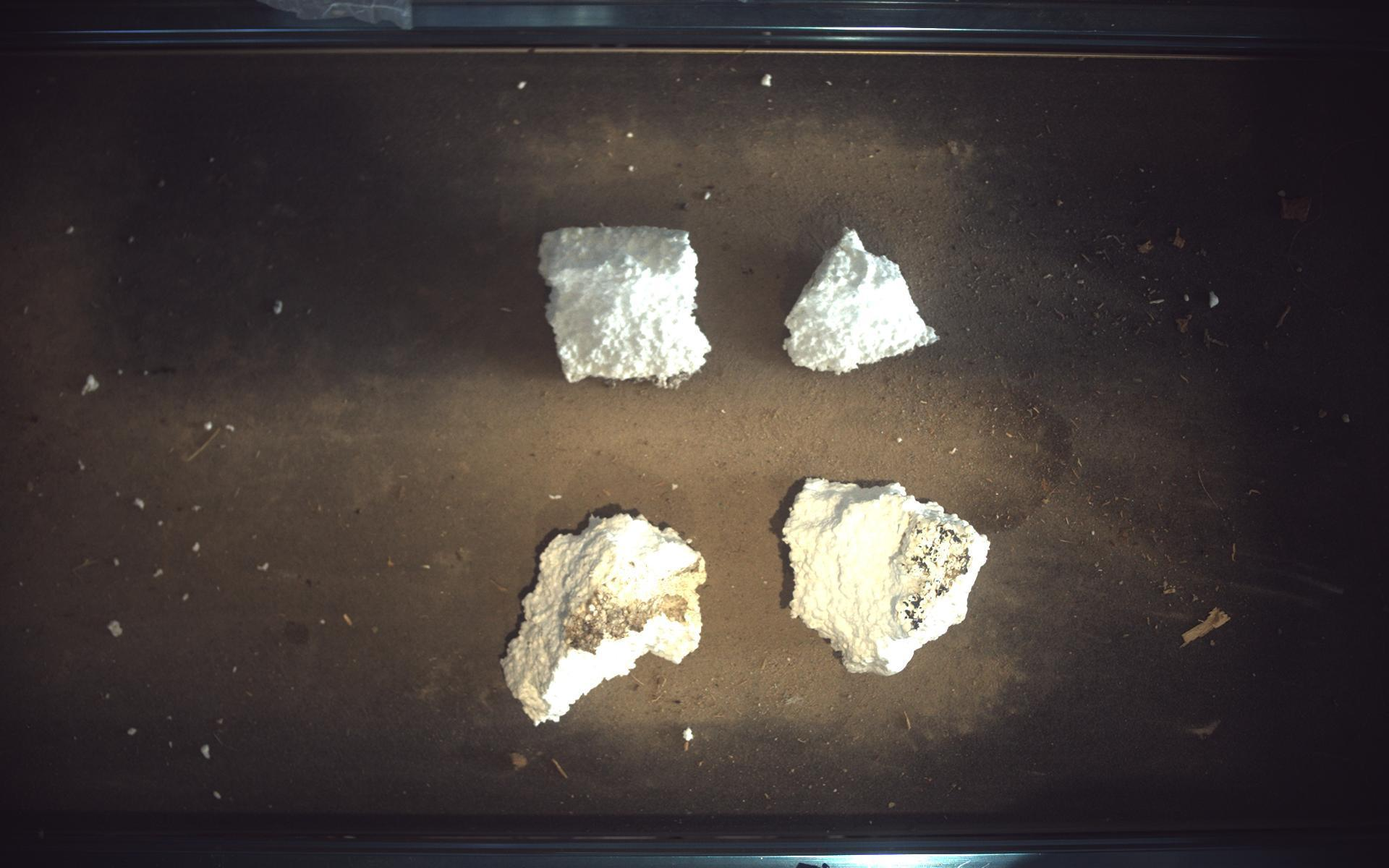foam: (502, 514, 708, 726), (784, 480, 991, 676), (539, 226, 711, 388), (785, 229, 940, 374)
